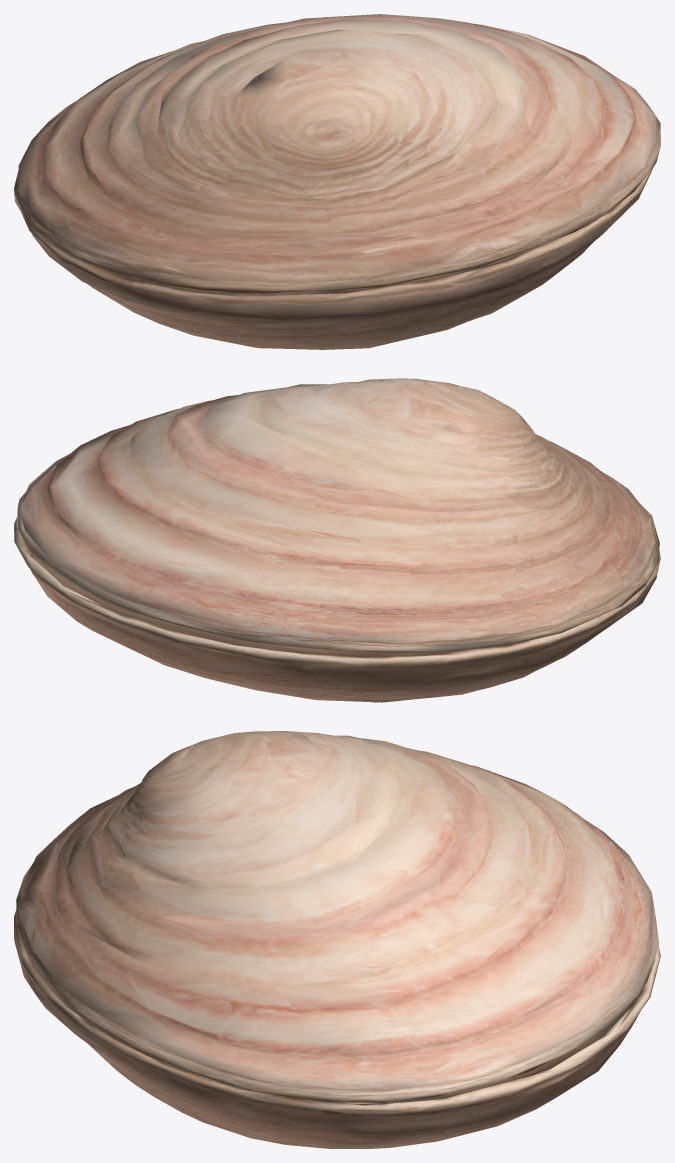
Rendered from shell-clam-v1.glb.
3 renders of one model, top to bottom at view 1: azimuth 30°, elevation 25°; view 2: azimuth 150°, elevation 25°; view 3: azimuth 270°, elevation 25°, orthographic. The views are drawn at different scales.
Parts seen in each view (by area): view 1: tripo_node_3b8b79ed-fa80-4ca2-82ae-207ef2ac4a92; view 2: tripo_node_3b8b79ed-fa80-4ca2-82ae-207ef2ac4a92; view 3: tripo_node_3b8b79ed-fa80-4ca2-82ae-207ef2ac4a92.
Boxes of the visible parts, x1,y1,x2,y2 form: tripo_node_3b8b79ed-fa80-4ca2-82ae-207ef2ac4a92: (14,14,660,349); tripo_node_3b8b79ed-fa80-4ca2-82ae-207ef2ac4a92: (14,378,660,702); tripo_node_3b8b79ed-fa80-4ca2-82ae-207ef2ac4a92: (14,731,660,1148).
Size of the model in its own units: 0.2299 by 0.095 by 0.1904.
1 material, 1 textured.
